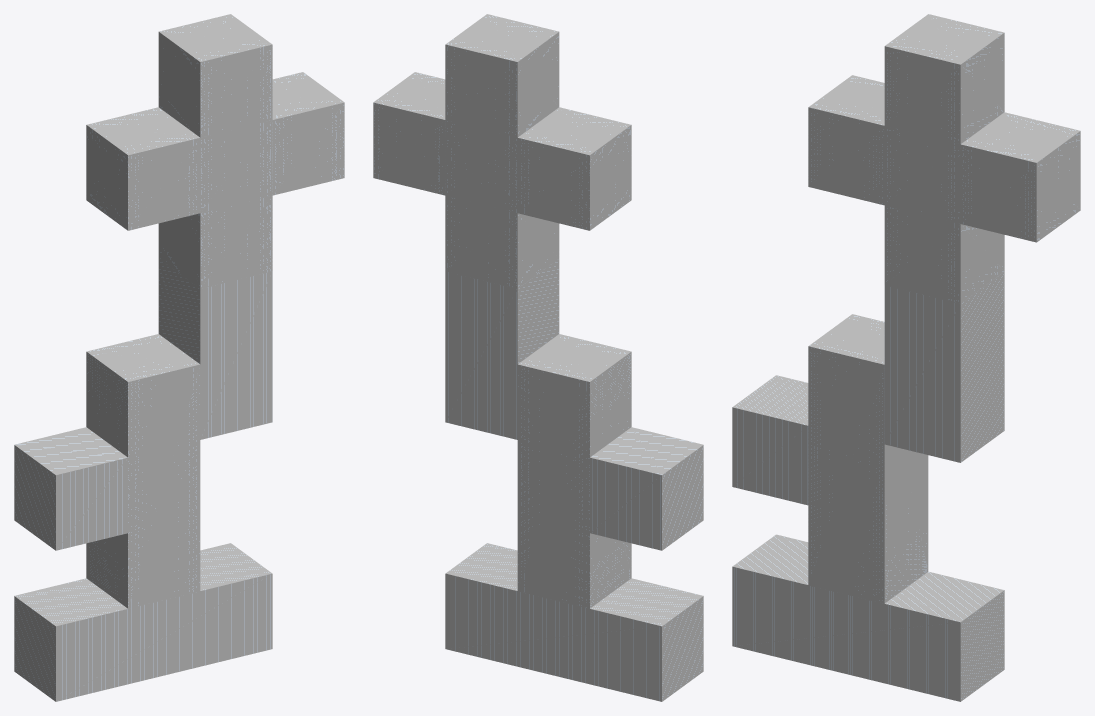
Rendered from dead-flower.fbx.
The picture shows the model from 3 angles, left to right: view 1: azimuth 30°, elevation 25°; view 2: azimuth 150°, elevation 25°; view 3: azimuth 330°, elevation 25°; orthographic projection. The views are drawn at different scales.
Visible parts, largest first — view 1: generated; view 2: generated; view 3: generated.
Boxes of the visible parts, <box> form: generated: <box>14,14,344,701</box>; generated: <box>373,14,703,701</box>; generated: <box>732,14,1080,701</box>.
Bounding box in the file's own units: 40 × 80 × 10.
Materials: 1 (1 with a texture image).
